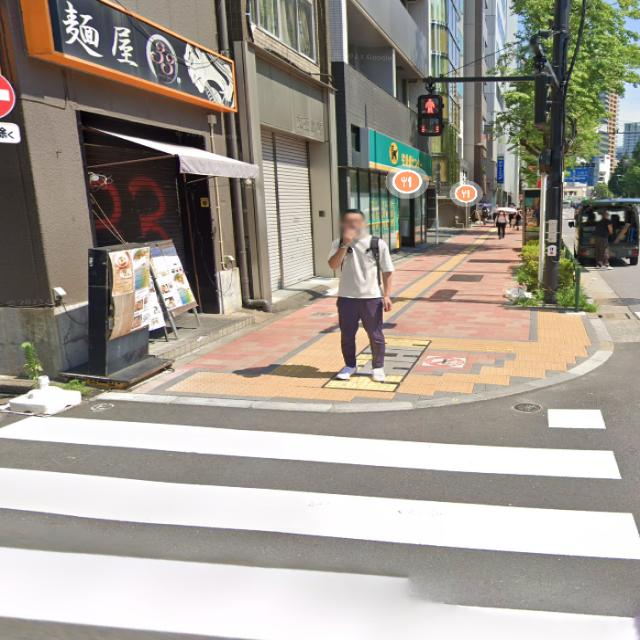traffic-light: (401, 88, 452, 154)
